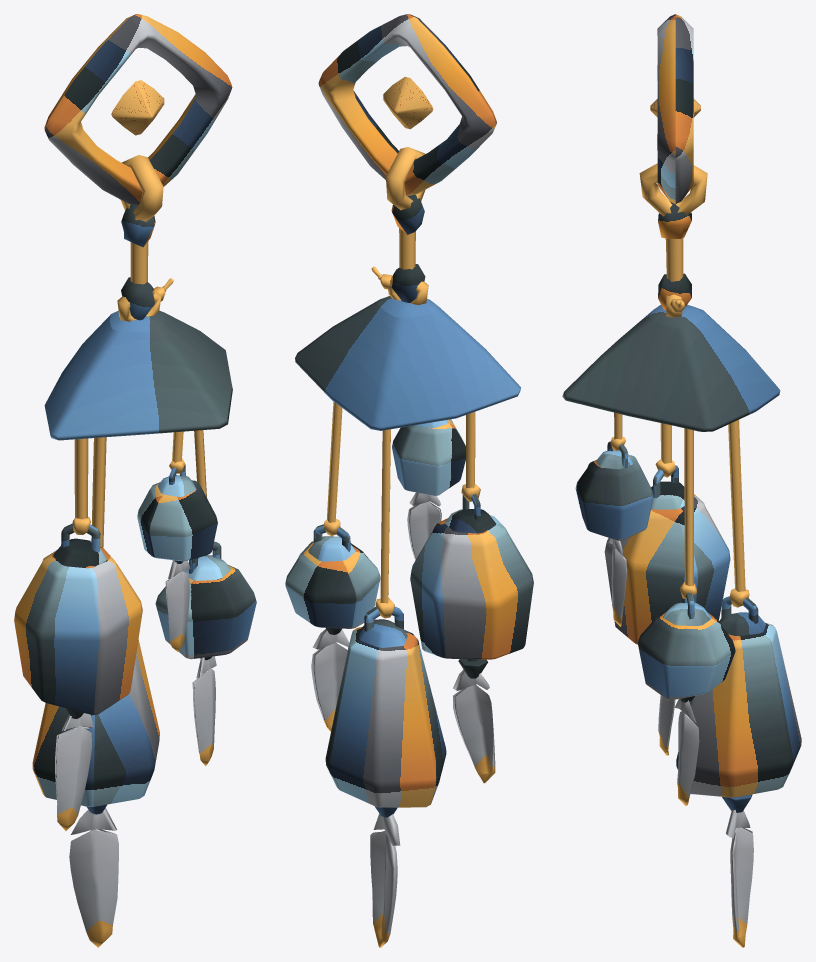
File: CharSkyKid_Prop_AP17Chimes.glb
3 renders of one model, left to right at view 1: azimuth 30°, elevation 25°; view 2: azimuth 150°, elevation 25°; view 3: azimuth 270°, elevation 25°, orthographic. The views are drawn at different scales.
Visible parts, largest first — view 1: CharSkyKid_Prop_AP17Chimes; view 2: CharSkyKid_Prop_AP17Chimes; view 3: CharSkyKid_Prop_AP17Chimes.
Part boxes in pixels (box(x1,y1,x2,y2)): CharSkyKid_Prop_AP17Chimes: box(14, 14, 256, 947); CharSkyKid_Prop_AP17Chimes: box(285, 14, 533, 947); CharSkyKid_Prop_AP17Chimes: box(562, 14, 801, 947).
Bounding box in the file's own units: 3.92 × 15.43 × 3.58.
1 material, 1 textured.
